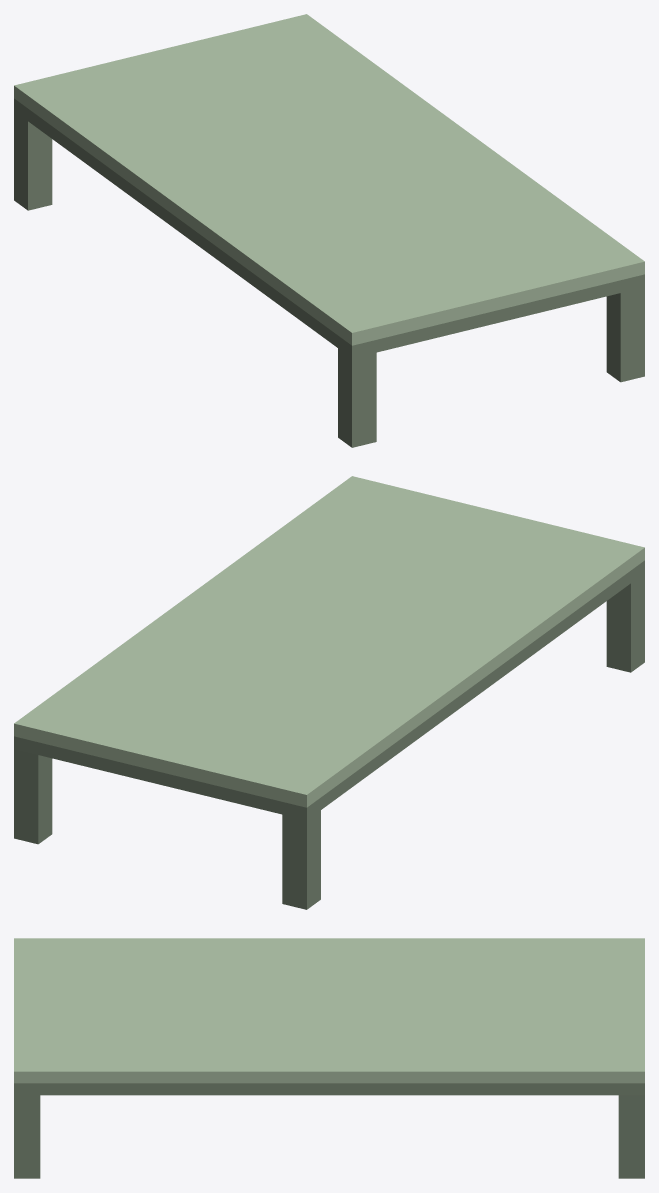
Rendered from mesa_consejo_desgastada_01.glb.
3 views of the same model, one above another, from view 1: azimuth 30°, elevation 25°; view 2: azimuth 150°, elevation 25°; view 3: azimuth 270°, elevation 25° (orthographic). The views are drawn at different scales.
Visible parts, largest first — view 1: mesa_consejo_desgastada; view 2: mesa_consejo_desgastada; view 3: mesa_consejo_desgastada.
Boxes of the visible parts, box(x1,y1,x2,y2) form: mesa_consejo_desgastada: box(14, 14, 644, 447); mesa_consejo_desgastada: box(14, 476, 644, 909); mesa_consejo_desgastada: box(14, 938, 644, 1178).
Size of the model in its own units: 2 by 0.75 by 4.
